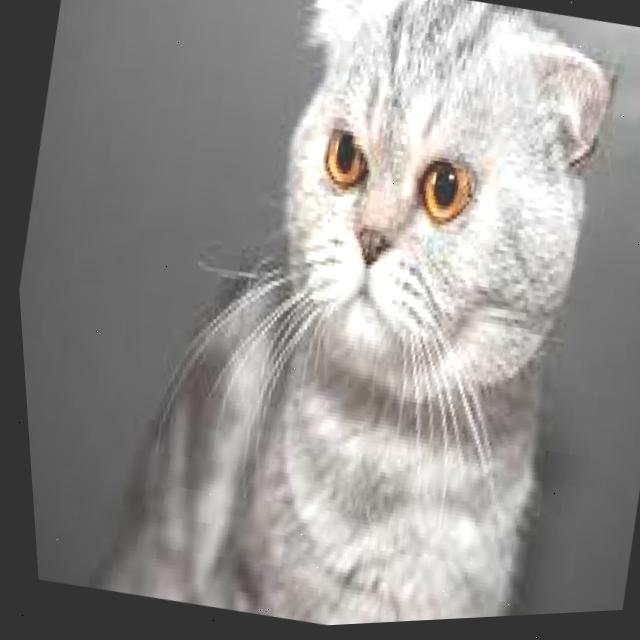Scottish Fold: (43, 0, 640, 638)
